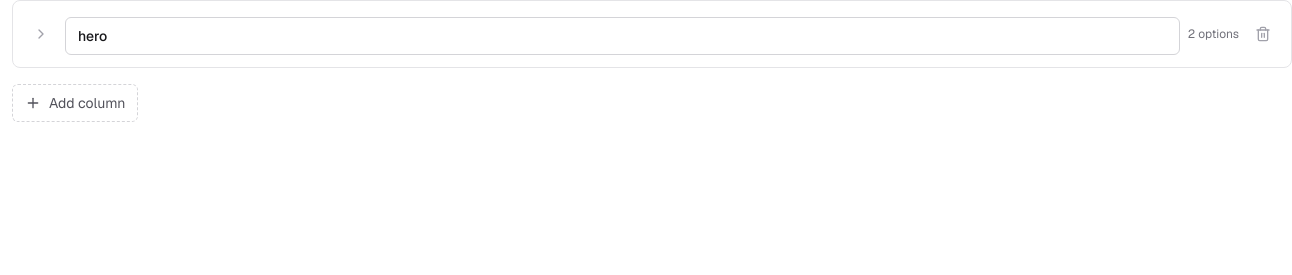
Test: ColumnEditor collapse › expands a collapsed column when its toggle is clicked
Step 1. Click the button named "expand column" → {"x": 41, "y": 34}, box [25,18,57,50]
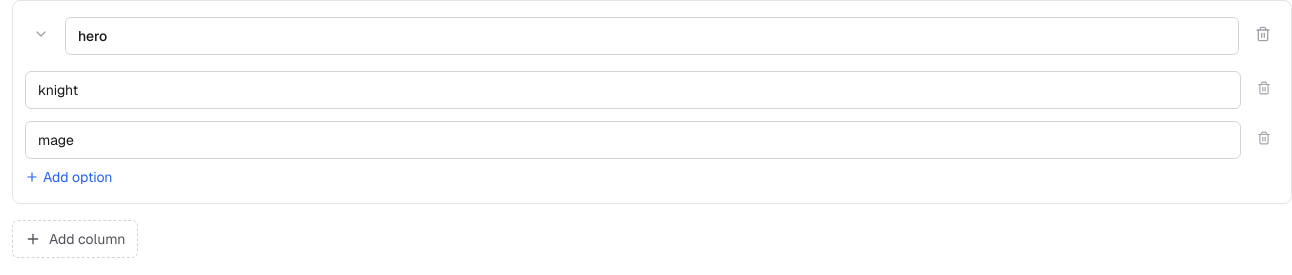
Expected: the number of fields with placeholder "Option" is 2, [25,71,1241,109]; [25,121,1241,159]
Expected: the button named "collapse column" is shown, [25,18,57,50]
